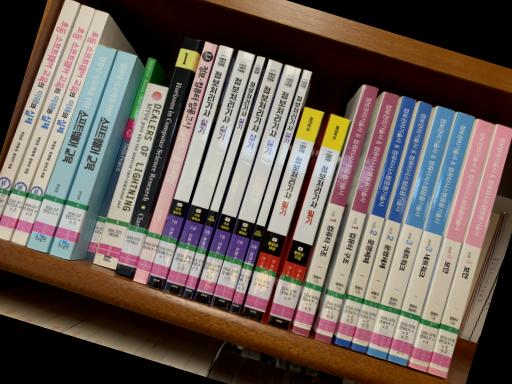book-spine: (10, 10, 108, 247), (163, 50, 255, 297), (210, 64, 301, 311), (193, 58, 283, 305), (0, 5, 94, 241), (388, 111, 475, 365), (367, 107, 454, 359), (293, 84, 378, 337), (408, 119, 493, 372), (314, 92, 399, 344), (428, 125, 512, 378), (147, 44, 233, 291), (132, 41, 217, 284), (115, 36, 200, 278), (228, 70, 312, 314), (182, 56, 264, 300), (352, 103, 432, 353), (335, 96, 414, 347), (26, 44, 117, 253), (50, 51, 137, 261), (242, 107, 324, 321), (269, 114, 349, 330), (84, 58, 155, 262), (93, 82, 168, 269)
